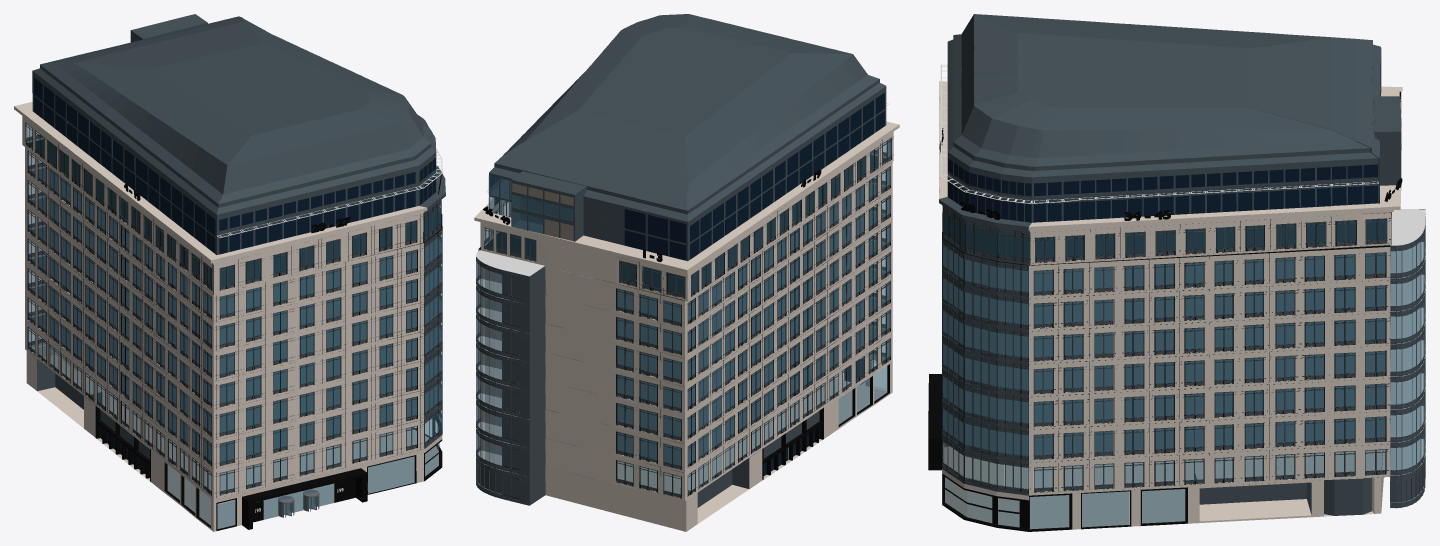
File: 199Bishopsgate.glb
3 renders of one model, left to right at view 1: azimuth 30°, elevation 25°; view 2: azimuth 150°, elevation 25°; view 3: azimuth 270°, elevation 25°, orthographic. The views are drawn at different scales.
Visible parts, largest first — view 1: Building, Drop21, Drop20, Drop23, Drop25, Drop22, Drop24, Drop26, Drop27, Drop7, Drop6, Drop10 (+16 smaller); view 2: Building, Drop2, Drop3, Drop1, Drop5, Drop6, Drop7, Drop48, Drop10, Drop8, Drop9, Drop19 (+12 smaller); view 3: Building, Drop44, Drop38, Drop43, Drop42, Drop39, Drop41, Drop35, Drop34, Drop45, Drop36, Drop40 (+11 smaller).
Boxes of the visible parts, x1,y1,x2,y2 form: Building: (14,14,445,531); Drop21: (241,208,266,484); Drop20: (219,215,239,490); Drop23: (297,195,322,471); Drop25: (347,182,371,459); Drop22: (269,201,295,478); Drop24: (324,189,345,465); Drop26: (373,177,393,452); Drop27: (395,172,416,446); Drop7: (59,103,76,378); Drop6: (48,94,65,369); Drop10: (96,130,111,406); Building: (474,14,899,531); Drop2: (640,214,667,488); Drop3: (664,220,686,494); Drop1: (617,209,645,482); Drop5: (699,211,711,484); Drop6: (712,203,724,476); Drop7: (725,195,736,467); Drop48: (484,181,520,463); Drop10: (762,169,775,440); Drop8: (737,186,749,458); Drop9: (750,177,762,449); Drop19: (875,92,891,361); Building: (928,14,1425,531); Drop44: (1332,165,1362,472); Drop38: (1143,175,1175,481); Drop43: (1301,167,1330,473); Drop42: (1269,169,1299,475); Drop39: (1175,174,1204,480); Drop41: (1238,170,1267,477); Drop35: (1063,180,1094,486); Drop34: (1034,182,1061,488); Drop45: (1363,164,1386,470); Drop36: (1095,178,1126,485); Drop40: (1207,172,1236,478).
Size of the model in its own units: 38.1 by 48.35 by 55.02.
Materials: 32 (7 with a texture image).
